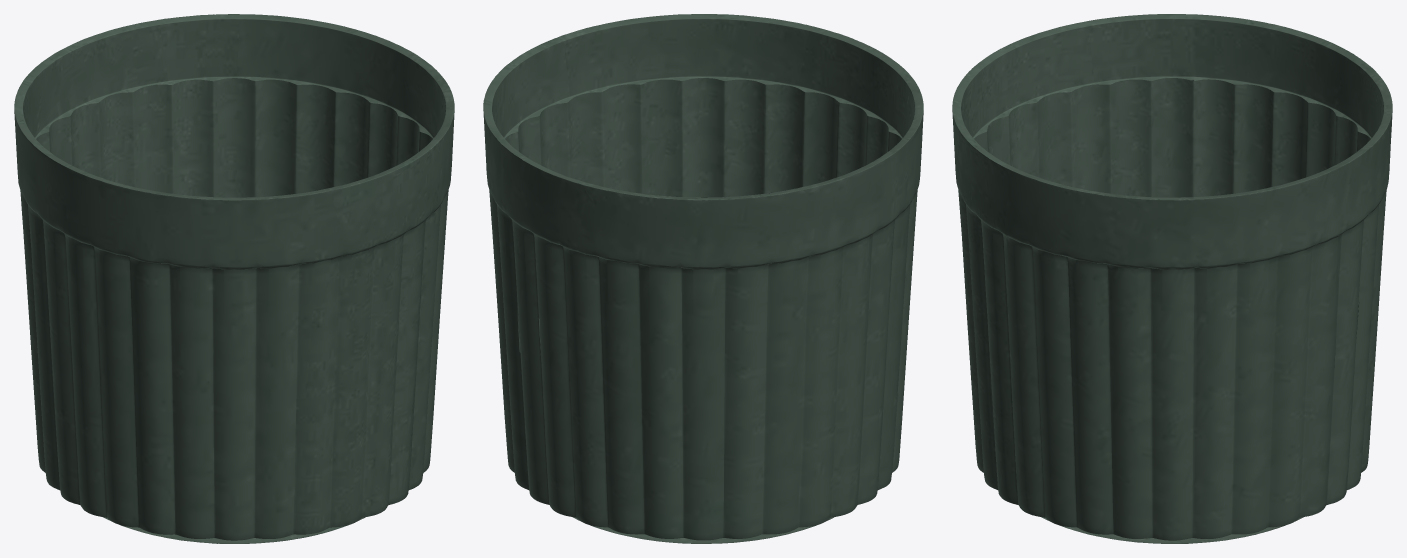
Rendered from frakenvaxt_osonka_doniczki_20610873.glb.
3 views of the same model, side by side, from view 1: azimuth 30°, elevation 25°; view 2: azimuth 150°, elevation 25°; view 3: azimuth 270°, elevation 25° (orthographic).
Parts seen in each view (by area): view 1: frakenvaxt_osonka_doniczki_20610873; view 2: frakenvaxt_osonka_doniczki_20610873; view 3: frakenvaxt_osonka_doniczki_20610873.
Part boxes in pixels (left/top/right/bottom): frakenvaxt_osonka_doniczki_20610873: left=14, top=14, right=454, bottom=543; frakenvaxt_osonka_doniczki_20610873: left=483, top=14, right=923, bottom=543; frakenvaxt_osonka_doniczki_20610873: left=952, top=14, right=1392, bottom=543.
Size of the model in its own units: 0.2599 by 0.2391 by 0.2599.
Materials: 1 (1 with a texture image).
